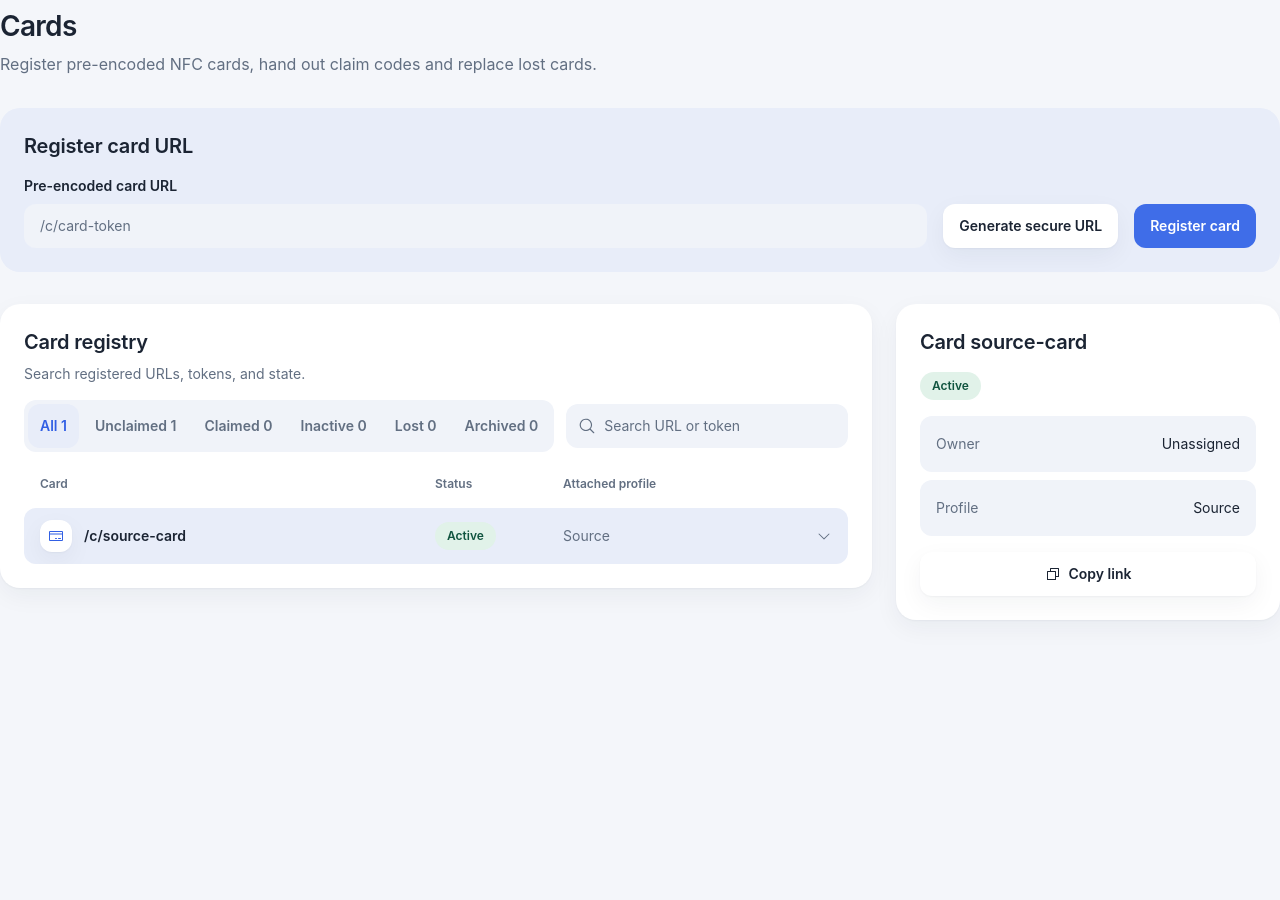
Test: live card URL mutations › keeps failed reassignment confirmation open and submits only once while pending
Step 1. Click the text "/c/source-card" → (135, 536), box x1=84 y1=526 x2=186 y2=546
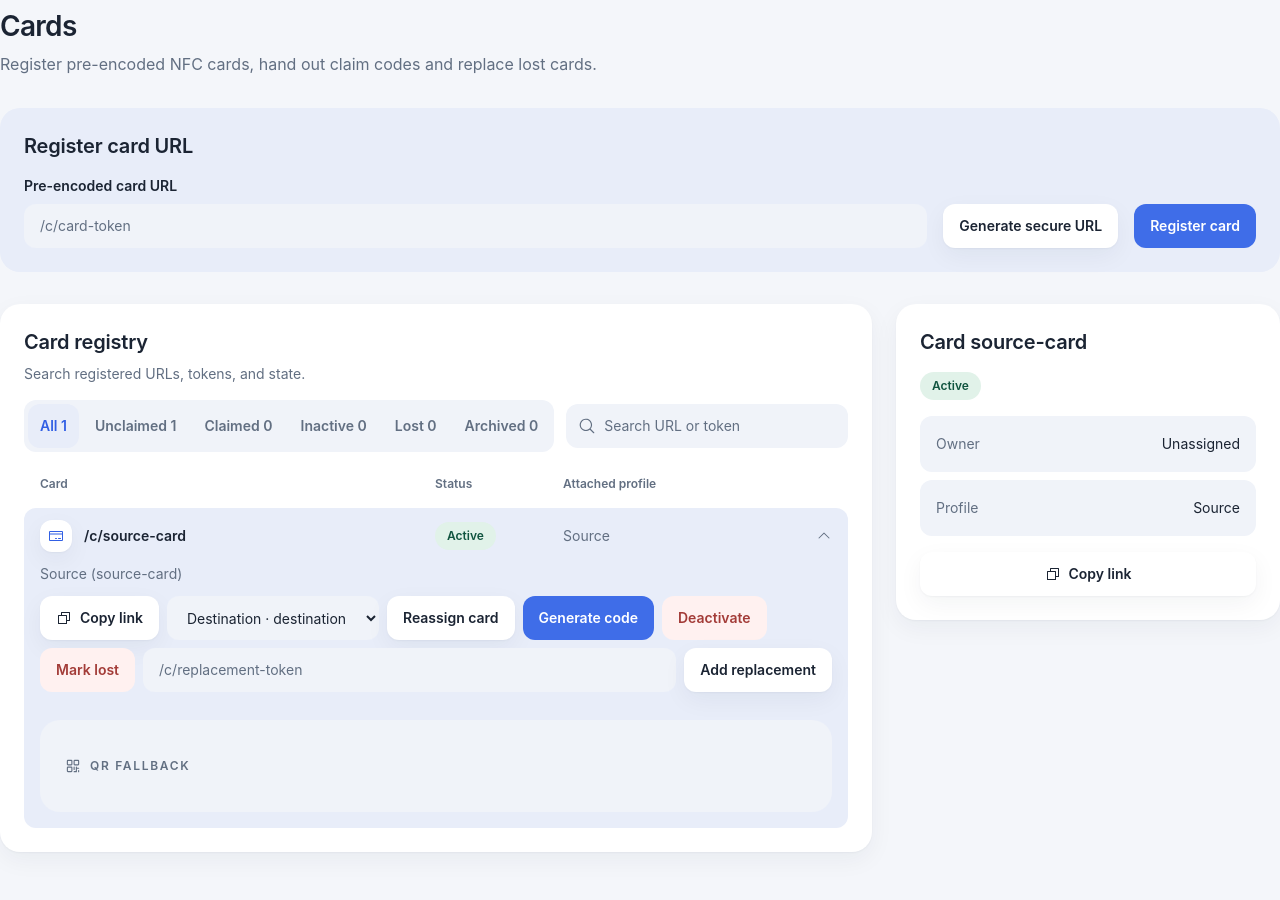
Step 2. Click the button "Reassign card" → (451, 618), box x1=387 y1=596 x2=515 y2=640
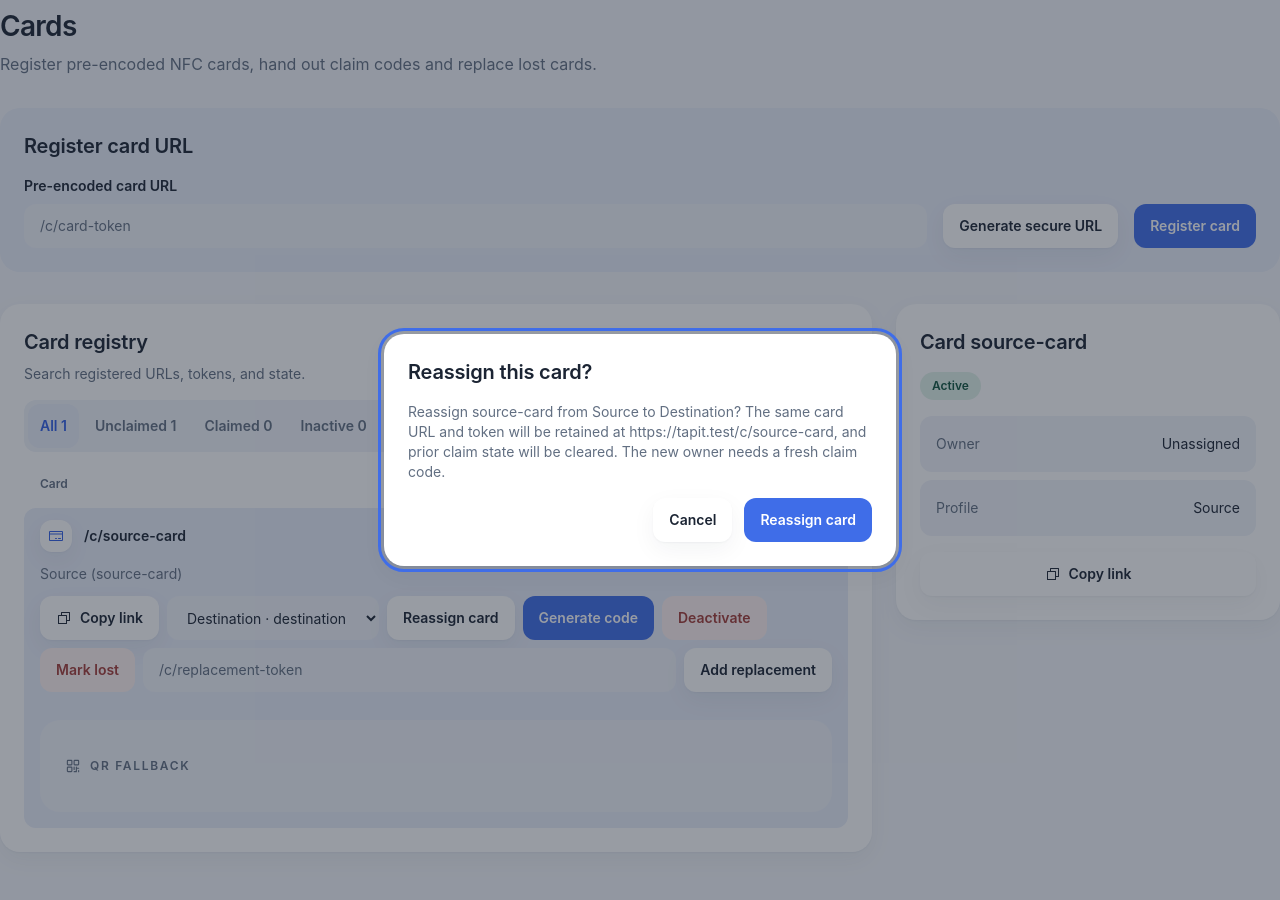
Step 3. Click the button "Reassign card" → (808, 520), box x1=744 y1=498 x2=872 y2=542
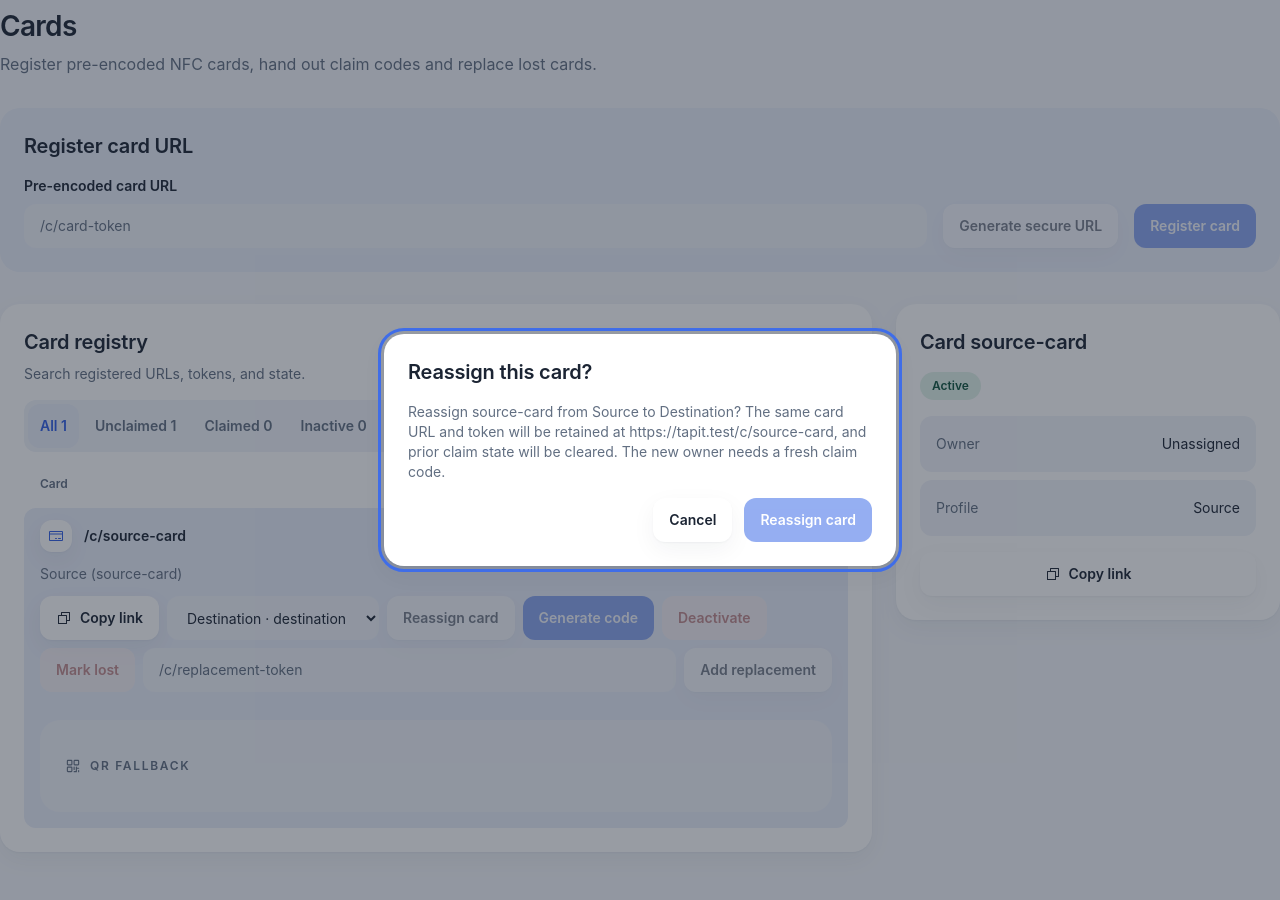
Expected: the button "Reassign card" is disabled
Step 4. Click the button "Reassign card" → (808, 520), box x1=744 y1=498 x2=872 y2=542
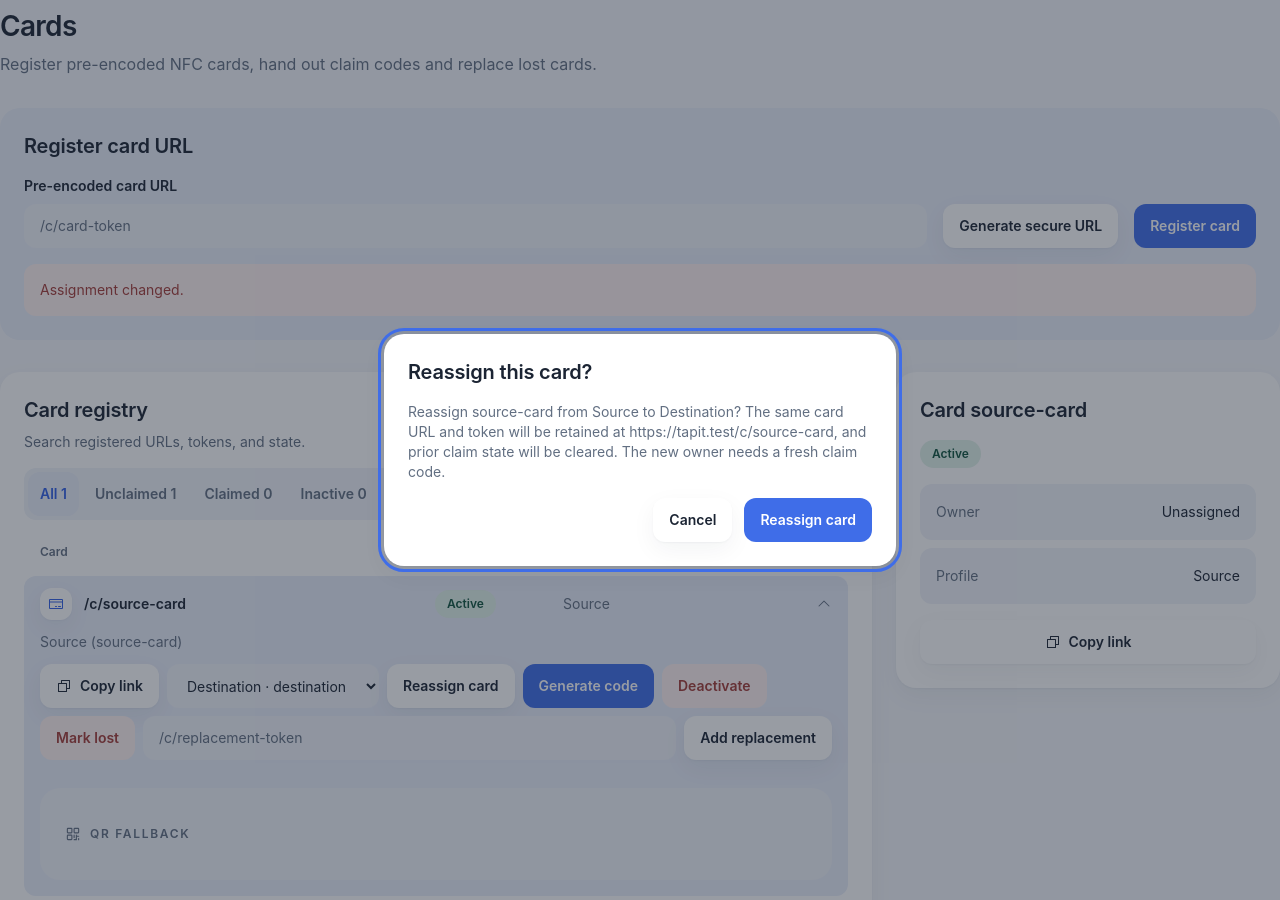
Expected: the dialog shows "source", x1=408 y1=403 x2=866 y2=480
Expected: the dialog shows "Destination", x1=408 y1=403 x2=866 y2=480
Expected: the message reads "Assignment changed.", x1=40 y1=281 x2=184 y2=298
